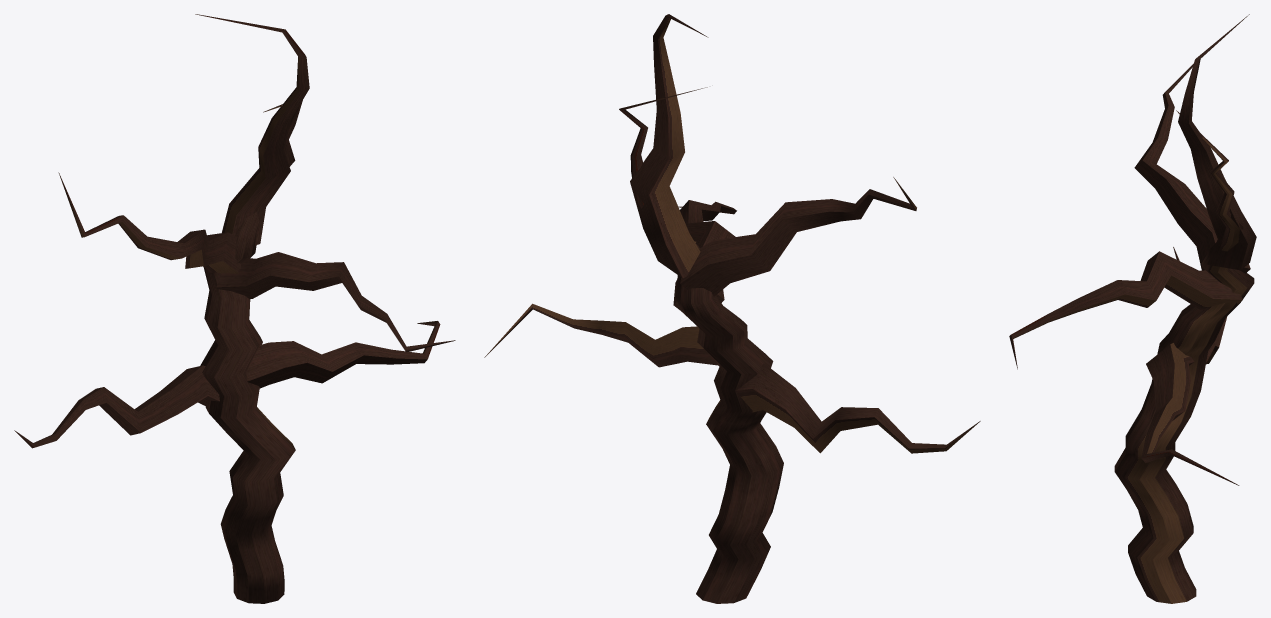
The model's file is Tree3.fbx.
3 views of the same model, side by side, from view 1: azimuth 30°, elevation 25°; view 2: azimuth 150°, elevation 25°; view 3: azimuth 270°, elevation 25° (orthographic). The views are drawn at different scales.
Parts seen in each view (by area): view 1: Branch_1, Twig_1, Twig_4, Twig_3, Twig_2, Twig_5; view 2: Branch_1, Twig_4, Twig_5, Twig_2, Twig_1, Twig_3; view 3: Branch_1, Twig_3, Twig_4, Twig_5, Twig_1.
Boxes of the visible parts, x1,y1,x2,y2 form: Branch_1: [200, 100, 302, 603]; Twig_1: [246, 321, 440, 388]; Twig_4: [195, 14, 309, 245]; Twig_3: [216, 252, 455, 352]; Twig_2: [14, 365, 219, 448]; Twig_5: [58, 172, 241, 273]; Branch_1: [619, 87, 783, 603]; Twig_4: [630, 14, 708, 278]; Twig_5: [680, 177, 916, 296]; Twig_2: [735, 363, 980, 453]; Twig_1: [484, 303, 720, 367]; Twig_3: [673, 200, 736, 312]; Branch_1: [1114, 110, 1254, 603]; Twig_3: [1009, 251, 1242, 369]; Twig_4: [1178, 14, 1256, 270]; Twig_5: [1134, 64, 1250, 273]; Twig_1: [1141, 343, 1239, 485].
Size of the model in its own units: 39.3 by 48.09 by 19.04.
